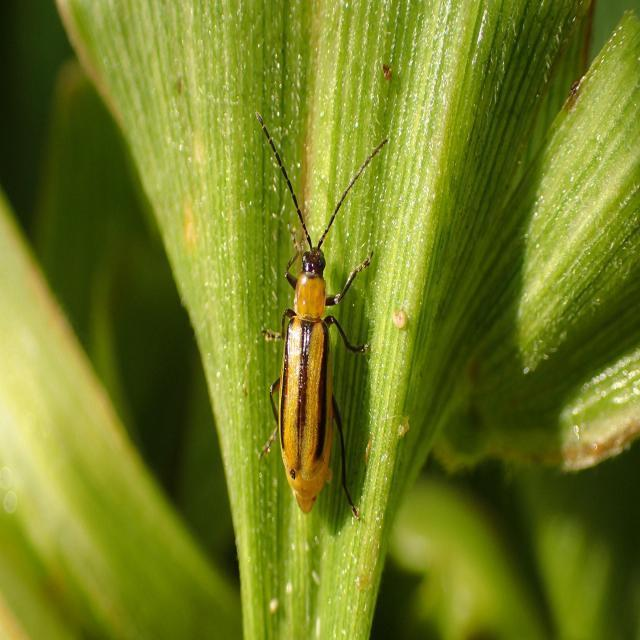trips: (255, 111, 388, 525)
